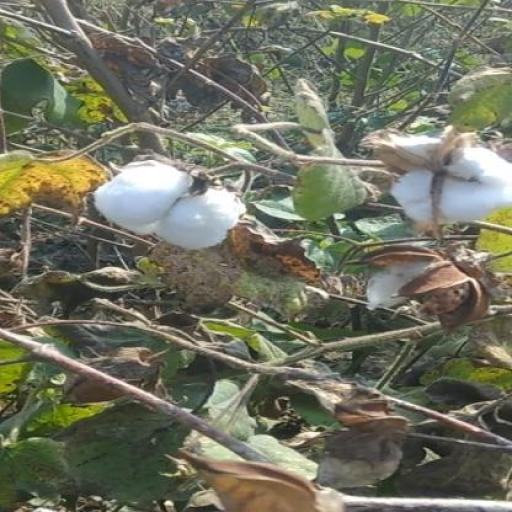cotton_ready: (74, 156, 266, 260), (366, 128, 512, 239)
